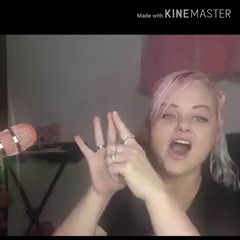I: (71, 107, 156, 194)
